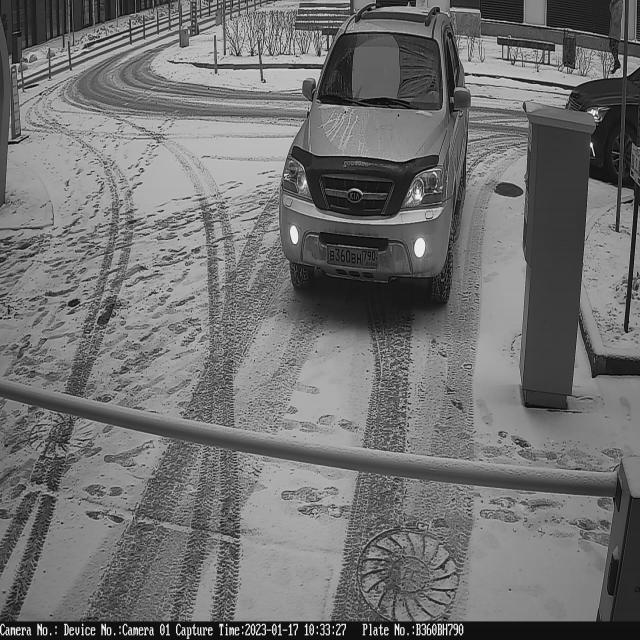car-plate-numbers: (325, 234, 384, 278)
